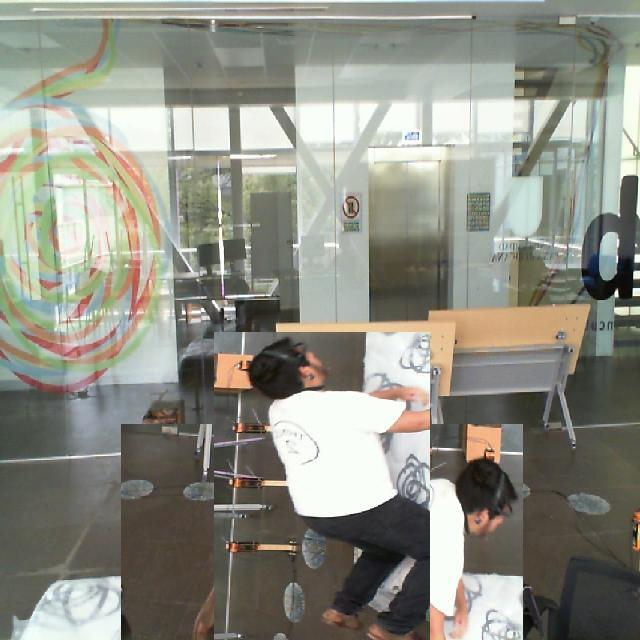NotFall: (197, 332, 477, 620)
